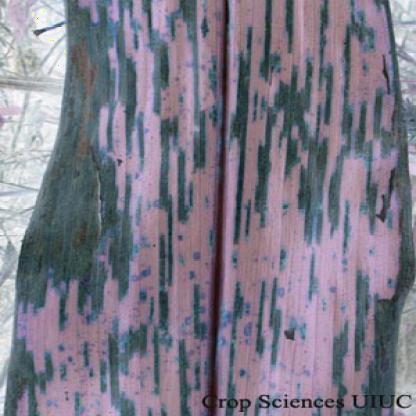Corn Gray leaf spot: (13, 2, 410, 415)
